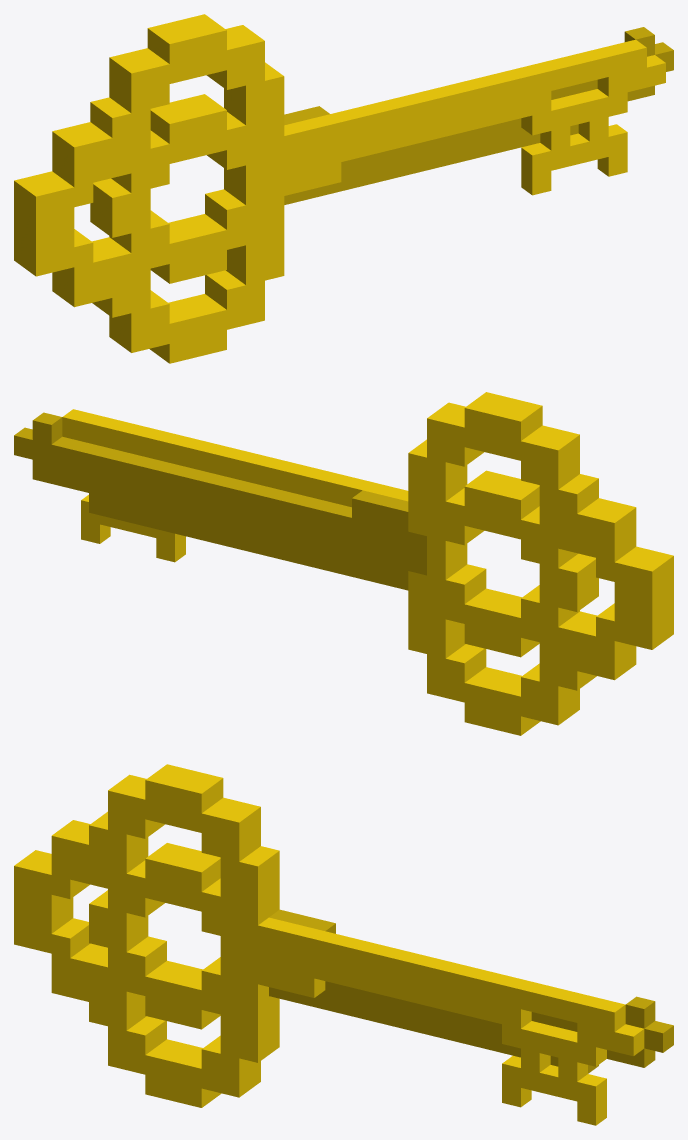
The model's file is key2.glb.
3 views of the same model, one above another, from view 1: azimuth 30°, elevation 25°; view 2: azimuth 150°, elevation 25°; view 3: azimuth 330°, elevation 25° (orthographic).
Visible parts, largest first — view 1: Untitled; view 2: Untitled; view 3: Untitled.
Part boxes in pixels (x1,y1,x2,y2): Untitled: [14, 14, 673, 363]; Untitled: [14, 392, 673, 735]; Untitled: [14, 764, 673, 1125].
Bounding box in the file's own units: 3.4 × 1.6 × 0.2.
1 material, 1 textured.
